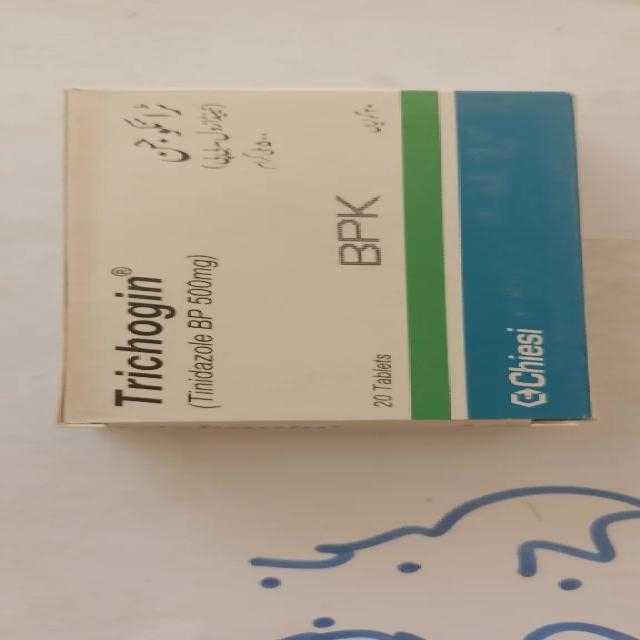drug-name: (110, 274, 176, 406)
